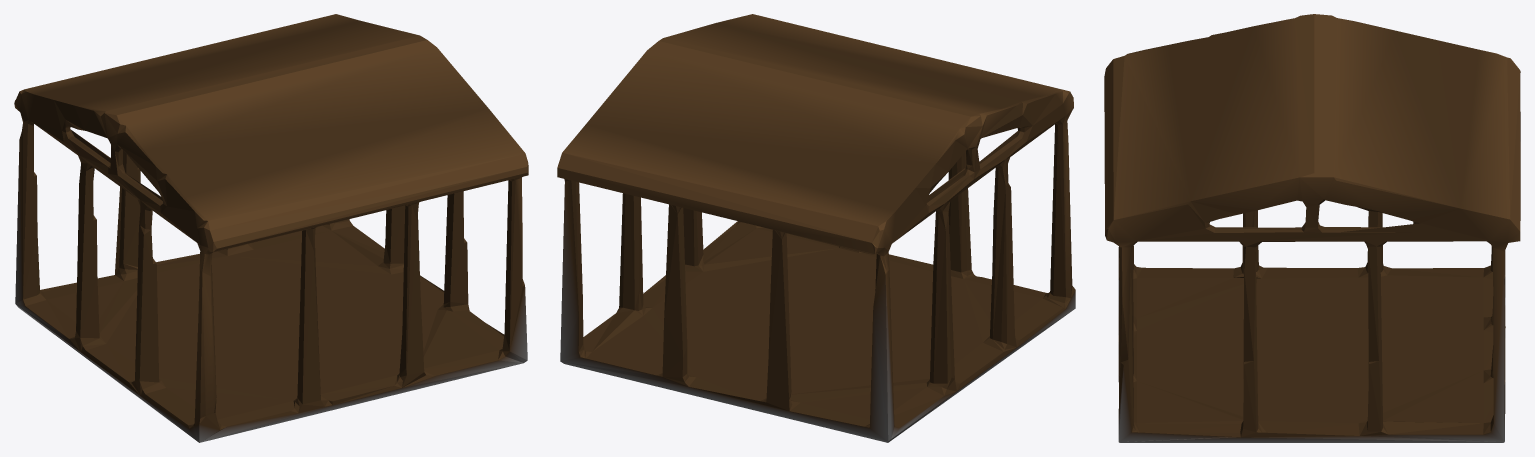
File: Pergolas and open houses.glb
3 views of the same model, side by side, from view 1: azimuth 30°, elevation 25°; view 2: azimuth 150°, elevation 25°; view 3: azimuth 270°, elevation 25° (orthographic). The views are drawn at different scales.
Visible parts, largest first — view 1: Root; view 2: Root; view 3: Root.
Boxes of the visible parts, x1,y1,x2,y2 form: Root: (14, 14, 528, 442); Root: (557, 14, 1075, 442); Root: (1104, 14, 1520, 442).
Bounding box in the file's own units: 4.24 × 3.16 × 4.43.
